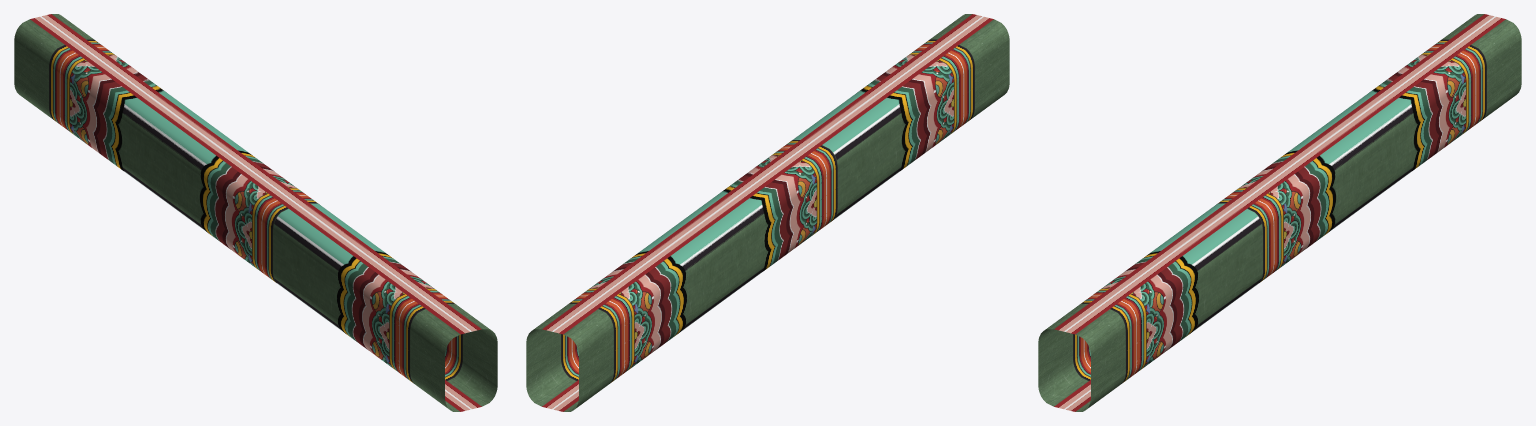
The model's file is SM_ChangBang04G.fbx.
3 renders of one model, left to right at view 1: azimuth 30°, elevation 25°; view 2: azimuth 150°, elevation 25°; view 3: azimuth 330°, elevation 25°, orthographic.
Visible parts, largest first — view 1: SM_ChangBang04G; view 2: SM_ChangBang04G; view 3: SM_ChangBang04G.
Boxes of the visible parts, x1,y1,x2,y2 form: SM_ChangBang04G: (14,14,497,411); SM_ChangBang04G: (526,14,1009,411); SM_ChangBang04G: (1038,14,1521,411).
Size of the model in its own units: 25.45 by 360 by 35.8.
1 material, 1 textured.
